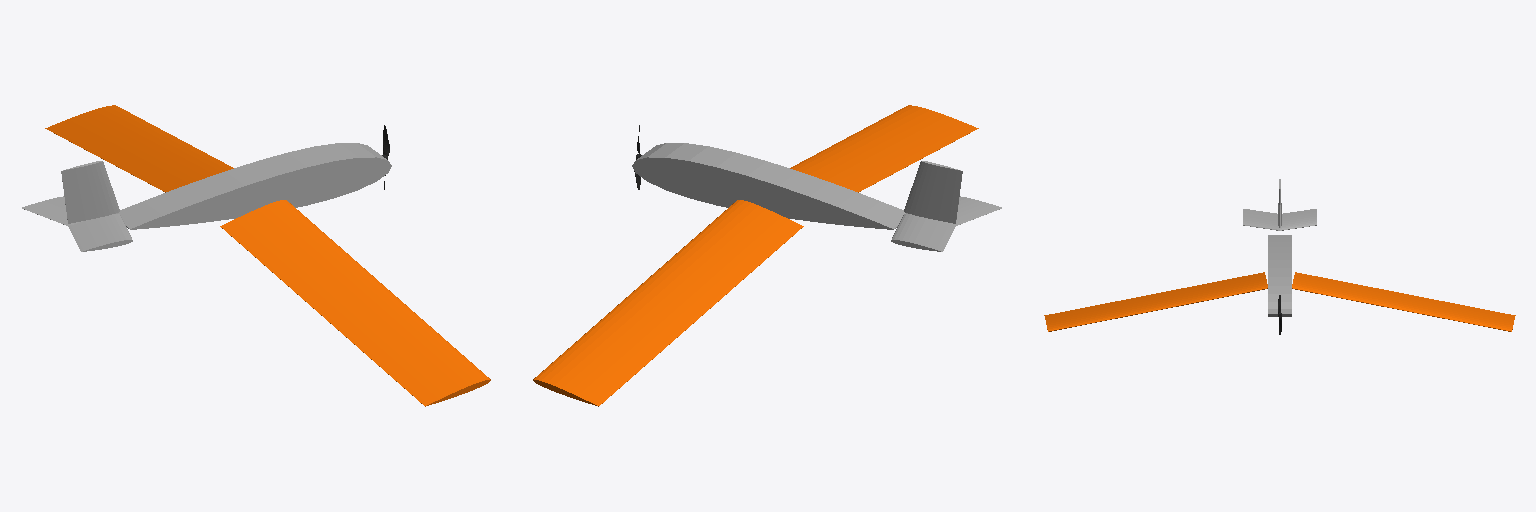
URDF robot description (drone_ea):
<robot name="drone_ea">
 <material name="grey">
  <color rgba="0.7 0.7 0.7 1" />
 </material>
 <material name="red">
  <color rgba="1 0.4980392156862745 0.054901960784313725 1" />
 </material>
 <material name="black">
  <color rgba="0.2 0.2 0.2 1" />
 </material>
 <link name="root_link">
  <inertial>
   <origin rpy="0 0 0" xyz="0 0 0" />
   <mass value="0" />
   <inertia ixx="0" ixy="0" ixz="0" iyy="0" iyz="0" izz="0" />
  </inertial>
 </link>
 <joint name="fixed_joint_base_fuselage" type="fixed">
  <parent link="root_link" />
  <child link="fuselage" />
  <origin rpy="3.141592653589793 0 0" xyz="0 0 0" />
 </joint>
 <link name="fuselage">
  <inertial>
   <origin rpy="0 0 0" xyz="-0.344 0 0" />
   <mass value="0.55" />
   <inertia ixx="0.00029015955" ixy="0" ixz="0" iyy="0.0074080147" iyz="0" izz="0.0074511885" />
  </inertial>
  <visual>
   <origin rpy="0 0 0" xyz="0 0 0" />
   <geometry>
    <mesh filename="package://ros_muav/meshes/fuselage0014_tail0009.stl" scale="0.001 0.001 0.001" />
   </geometry>
   <material name="grey" />
  </visual>
 </link>
 <joint name="fixed_joint_aero_frame_fuselage" type="fixed">
  <parent link="fuselage" />
  <child link="aero_frame_fuselage" />
  <origin rpy="0 3.141592653589793 0" xyz="-0.344 0 0" />
 </joint>
 <link name="aero_frame_fuselage" />
 <joint name="fixed_joint_right_wing" type="fixed">
  <parent link="fuselage" />
  <child link="fuselage_right_0" />
  <origin rpy="-0.17453292519943295 -0.10471975511965977 3.07177948351002" xyz="-0.35 0.05 0.03" />
 </joint>
 <link name="fuselage_right_0">
  <inertial>
   <mass value="0.023" />
   <origin rpy="0 0 0" xyz="0 0 0" />
   <inertia ixx="2.7259259259259264e-06" ixy="0" ixz="0" iyy="2.7259259259259264e-06" iyz="0" izz="2.7259259259259264e-06" />
  </inertial>
 </link>
 <joint name="joint_0_twist_right_wing" type="revolute">
  <parent link="fuselage_right_0" />
  <child link="fuselage_right_1" />
  <origin rpy="0 0 0" xyz="0 0 0" />
  <axis xyz="0 1 0" />
  <limit effort="0.3" lower="-0.5235987755982988" upper="0.5235987755982988" velocity="6.754424205218055" />
  <dynamics damping="1" friction="0" />
 </joint>
 <link name="fuselage_right_1">
  <inertial>
   <mass value="0" />
   <origin rpy="0 0 0" xyz="0 0 0" />
   <inertia ixx="0" ixy="0" ixz="0" iyy="0" iyz="0" izz="0" />
  </inertial>
 </link>
 <joint name="joint_1_fixed_right_wing" type="fixed">
  <parent link="fuselage_right_1" />
  <child link="fuselage_right_2" />
  <origin rpy="0 0 0" xyz="0 0 0" />
  <axis xyz="0 0 0" />
 </joint>
 <link name="fuselage_right_2">
  <inertial>
   <mass value="0" />
   <origin rpy="0 0 0" xyz="0 0 0" />
   <inertia ixx="0" ixy="0" ixz="0" iyy="0" iyz="0" izz="0" />
  </inertial>
 </link>
 <joint name="joint_2_fixed_right_wing" type="fixed">
  <parent link="fuselage_right_2" />
  <child link="right_wing" />
  <origin rpy="0 0 0" xyz="0 0 0" />
  <axis xyz="0 0 0" />
 </joint>
 <link name="right_wing">
  <inertial>
   <origin rpy="0 0 0" xyz="0.034436664 -0.45 0" />
   <mass value="0.06666562745484482" />
   <inertia ixx="0.004501152907351681" ixy="0" ixz="0" iyy="0.00014765917768521603" iyz="0" izz="0.004646365981592641" />
  </inertial>
  <visual>
   <origin rpy="0 0 0" xyz="0 0 0" />
   <geometry>
    <mesh filename="package://ros_muav/meshes/wing0009.stl" scale="0.2 0.9 0.2" />
   </geometry>
   <material name="red" />
  </visual>
 </link>
 <joint name="fixed_joint_aero_frame_right_wing" type="fixed">
  <parent link="right_wing" />
  <child link="aero_frame_right_wing" />
  <origin rpy="3.141592653589793 0 0" xyz="0.034436664 -0.45 0" />
 </joint>
 <link name="aero_frame_right_wing" />
 <joint name="fixed_joint_left_wing" type="fixed">
  <parent link="fuselage" />
  <child link="fuselage_left_0" />
  <origin rpy="0.17453292519943295 3.246312408709453 0.06981317007977318" xyz="-0.35 -0.05 0.03" />
 </joint>
 <link name="fuselage_left_0">
  <inertial>
   <mass value="0.023" />
   <origin rpy="0 0 0" xyz="0 0 0" />
   <inertia ixx="2.7259259259259264e-06" ixy="0" ixz="0" iyy="2.7259259259259264e-06" iyz="0" izz="2.7259259259259264e-06" />
  </inertial>
 </link>
 <joint name="joint_0_twist_left_wing" type="revolute">
  <parent link="fuselage_left_0" />
  <child link="fuselage_left_1" />
  <origin rpy="0 0 0" xyz="0 0 0" />
  <axis xyz="0 -1 0" />
  <limit effort="0.3" lower="-0.5235987755982988" upper="0.5235987755982988" velocity="6.754424205218055" />
  <dynamics damping="1" friction="0" />
 </joint>
 <link name="fuselage_left_1">
  <inertial>
   <mass value="0" />
   <origin rpy="0 0 0" xyz="0 0 0" />
   <inertia ixx="0" ixy="0" ixz="0" iyy="0" iyz="0" izz="0" />
  </inertial>
 </link>
 <joint name="joint_1_fixed_left_wing" type="fixed">
  <parent link="fuselage_left_1" />
  <child link="fuselage_left_2" />
  <origin rpy="0 0 0" xyz="0 0 0" />
  <axis xyz="0 0 0" />
 </joint>
 <link name="fuselage_left_2">
  <inertial>
   <mass value="0" />
   <origin rpy="0 0 0" xyz="0 0 0" />
   <inertia ixx="0" ixy="0" ixz="0" iyy="0" iyz="0" izz="0" />
  </inertial>
 </link>
 <joint name="joint_2_fixed_left_wing" type="fixed">
  <parent link="fuselage_left_2" />
  <child link="left_wing" />
  <origin rpy="0 0 0" xyz="0 0 0" />
  <axis xyz="0 0 0" />
 </joint>
 <link name="left_wing">
  <inertial>
   <origin rpy="0 0 0" xyz="0.034436664 -0.45 0" />
   <mass value="0.06666562745484482" />
   <inertia ixx="0.004501152907351681" ixy="0" ixz="0" iyy="0.00014765917768521603" iyz="0" izz="0.004646365981592641" />
  </inertial>
  <visual>
   <origin rpy="0 0 0" xyz="0 0 0" />
   <geometry>
    <mesh filename="package://ros_muav/meshes/wing0009.stl" scale="0.2 0.9 0.2" />
   </geometry>
   <material name="red" />
  </visual>
 </link>
 <joint name="fixed_joint_aero_frame_left_wing" type="fixed">
  <parent link="left_wing" />
  <child link="aero_frame_left_wing" />
  <origin rpy="0 0 0" xyz="0.034436664 -0.45 0" />
 </joint>
 <link name="aero_frame_left_wing" />
 <joint name="fixed_joint_collision_0" type="fixed">
  <parent link="fuselage" />
  <child link="collision_frame_0" />
  <origin rpy="0 0 0" xyz="0 0 0" />
 </joint>
 <link name="collision_frame_0" />
 <joint name="fixed_joint_collision_1" type="fixed">
  <parent link="fuselage" />
  <child link="collision_frame_1" />
  <origin rpy="0 0 0" xyz="-0.75 0 0" />
 </joint>
 <link name="collision_frame_1" />
 <joint name="fixed_joint_collision_2" type="fixed">
  <parent link="right_wing" />
  <child link="collision_frame_2" />
  <origin rpy="0 0 0" xyz="0.15000000000000002 -0.9 0" />
 </joint>
 <link name="collision_frame_2" />
 <joint name="fixed_joint_collision_3" type="fixed">
  <parent link="right_wing" />
  <child link="collision_frame_3" />
  <origin rpy="0 0 0" xyz="-0.05 -0.9 0" />
 </joint>
 <link name="collision_frame_3" />
 <joint name="fixed_joint_collision_4" type="fixed">
  <parent link="left_wing" />
  <child link="collision_frame_4" />
  <origin rpy="0 0 0" xyz="0.15000000000000002 -0.9 0" />
 </joint>
 <link name="collision_frame_4" />
 <joint name="fixed_joint_collision_5" type="fixed">
  <parent link="left_wing" />
  <child link="collision_frame_5" />
  <origin rpy="0 0 0" xyz="-0.05 -0.9 0" />
 </joint>
 <link name="collision_frame_5" />
 <joint name="fixed_joint_prop_frame_fuselage_0" type="fixed">
  <parent link="fuselage" />
  <child link="prop_frame_fuselage_0" />
  <origin rpy="3.141592653589793 -1.5707963267948966 0" xyz="0 0 0" />
 </joint>
 <link name="prop_frame_fuselage_0">
  <inertial>
   <mass value="0.031" />
   <origin rpy="0 0 0" xyz="0 0 0" />
   <inertia ixx="3.7625e-05" ixy="0" ixz="0" iyy="3.7625e-05" iyz="0" izz="7.5e-05" />
  </inertial>
  <visual>
   <origin rpy="0 0 0" xyz="0 0 0" />
   <geometry>
    <mesh filename="package://ros_muav/meshes/propeller.stl" scale="0.001 0.001 0.001" />
   </geometry>
   <material name="black" />
  </visual>
 </link>
</robot>

--- Render facts (derived) ---
The picture shows the robot from 3 angles, left to right: view 1: azimuth 30°, elevation 25°; view 2: azimuth 150°, elevation 25°; view 3: azimuth 270°, elevation 25°; orthographic projection.
Robot: drone_ea — 20 links, 19 joints (2 revolute, 17 fixed); root link root_link; default pose: every joint at zero.
Visible links, largest first — view 1: right_wing, fuselage, left_wing; view 2: left_wing, fuselage, right_wing; view 3: right_wing, left_wing, fuselage.
Link boxes in pixels (<box>): right_wing: <box>220,200,490,406</box>; fuselage: <box>22,143,391,251</box>; left_wing: <box>45,105,233,192</box>; left_wing: <box>533,200,803,406</box>; fuselage: <box>632,143,1001,251</box>; right_wing: <box>790,105,978,192</box>; right_wing: <box>1044,272,1267,331</box>; left_wing: <box>1292,272,1515,331</box>; fuselage: <box>1243,179,1316,316</box>.
Bounding box of the posed robot: 0.9695 × 1.89 × 0.3813 m (x, y, z).
Meshes: 3 distinct files referenced, 4 mesh visuals loaded (3 binary STL).
